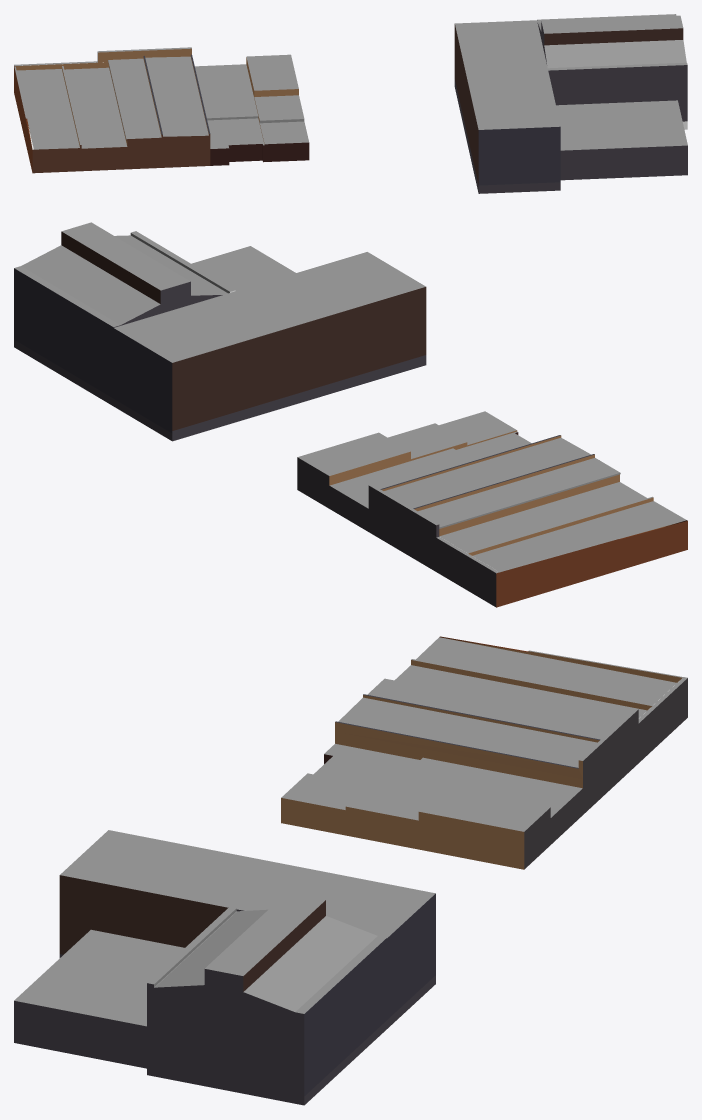
Rendered from oci-office-co-ordinators-inc.glb.
3 renders of one model, top to bottom at view 1: azimuth 30°, elevation 25°; view 2: azimuth 150°, elevation 25°; view 3: azimuth 270°, elevation 25°, orthographic. The views are drawn at different scales.
Visible parts, largest first — view 1: LOD0; view 2: LOD0; view 3: LOD0.
Boxes of the visible parts, x1,y1,x2,y2 form: LOD0: [14, 14, 687, 193]; LOD0: [14, 222, 687, 607]; LOD0: [14, 636, 687, 1105].
Size of what is drawn, in the model's own units: 109 by 14.51 by 75.43.
Materials: 1 (1 with a texture image).
